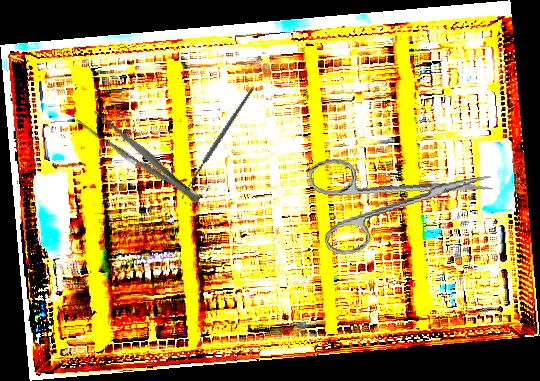Dressing Forceps: (73, 104, 207, 210)
Hook Surgical: (152, 88, 285, 204)
Iris Scissors: (307, 137, 499, 259)
